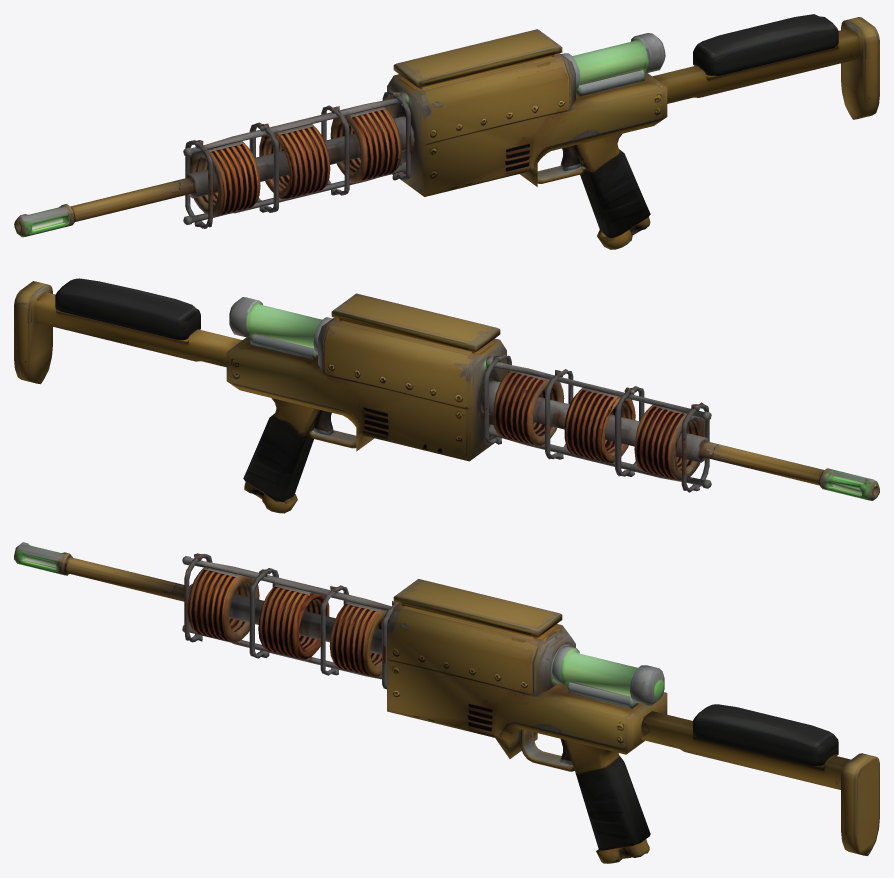
The model's file is asset_pack_item_glb-vd7fm7jh9n4pdmfxcqf3jxeps98c808x-3-ks70k5nyancr9w1gch4f0fpnh18c9skz.glb.
3 views of the same model, one above another, from view 1: azimuth 30°, elevation 25°; view 2: azimuth 150°, elevation 25°; view 3: azimuth 330°, elevation 25° (orthographic).
Parts seen in each view (by area): view 1: Longcoil Precision Caster; view 2: Longcoil Precision Caster; view 3: Longcoil Precision Caster.
Boxes of the visible parts, x1,y1,x2,y2 form: Longcoil Precision Caster: (14, 14, 879, 249); Longcoil Precision Caster: (14, 278, 879, 513); Longcoil Precision Caster: (14, 542, 879, 863).
Size of the model in its own units: 0.998 by 0.252 by 0.0762.
1 material, 1 textured.
